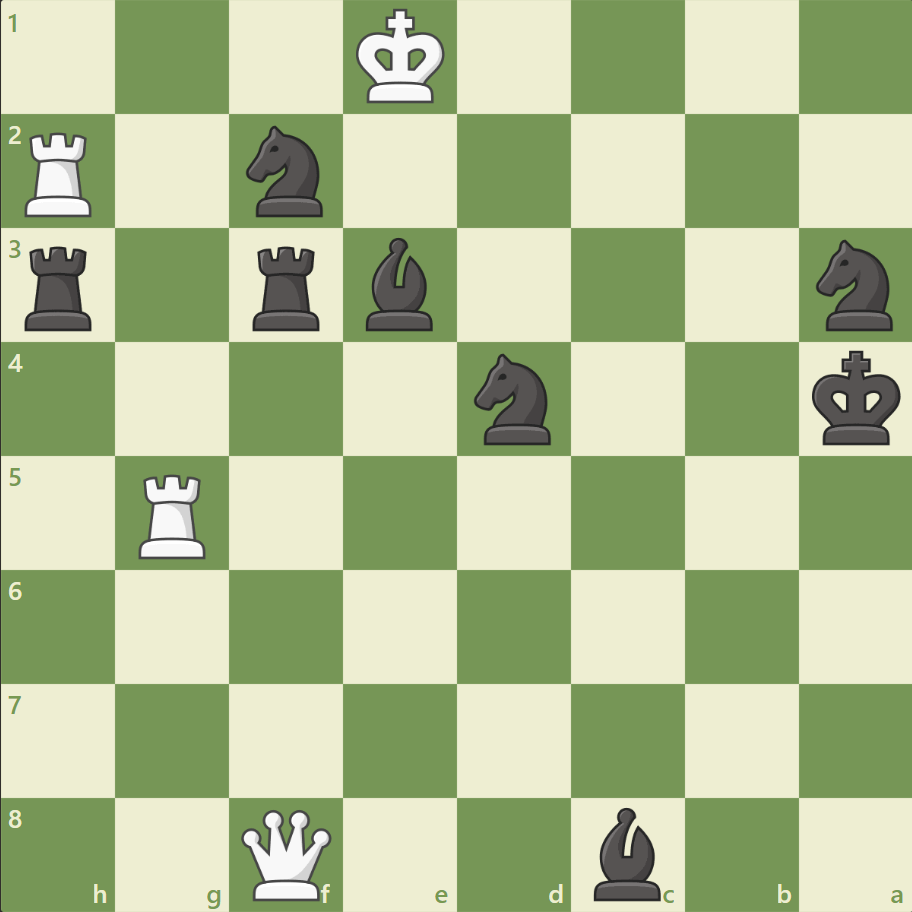K: (351, 4, 451, 112)
Q: (237, 804, 336, 903)
R: (19, 125, 102, 222), (133, 466, 215, 563)
b: (585, 801, 669, 904), (358, 233, 442, 336)
k: (806, 344, 906, 452)
n: (806, 234, 903, 337), (465, 348, 562, 450), (238, 121, 335, 223)
r: (246, 239, 329, 336), (19, 239, 102, 336)
